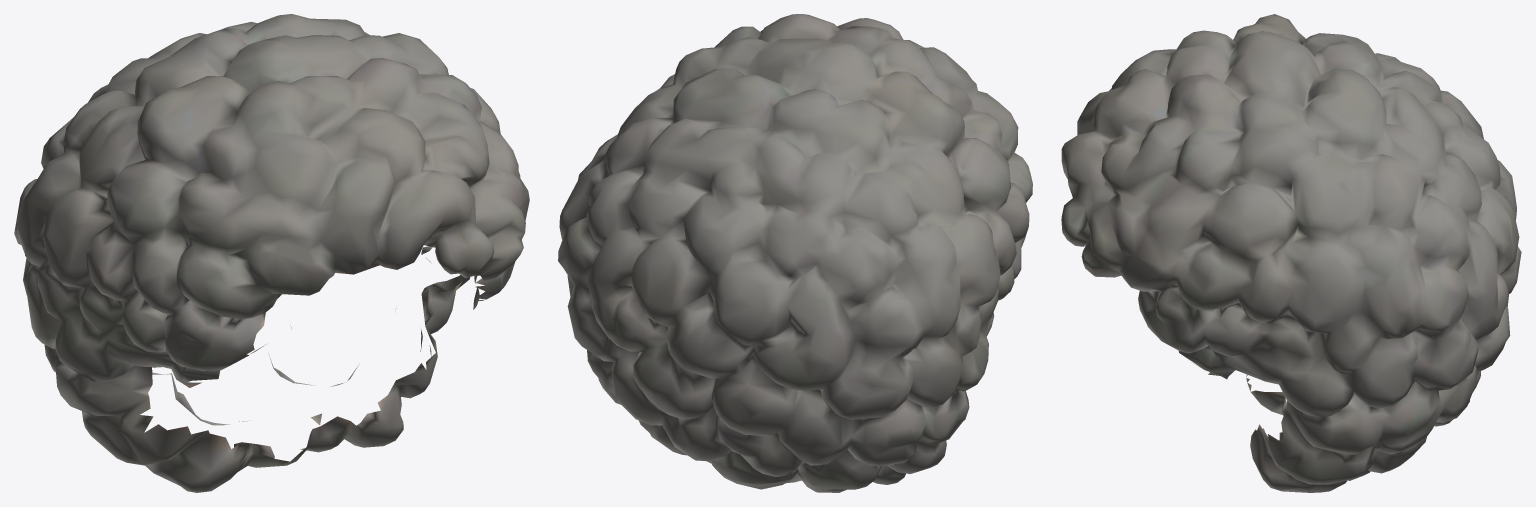
File: hair-f-curls.glb
3 renders of one model, left to right at view 1: azimuth 30°, elevation 25°; view 2: azimuth 150°, elevation 25°; view 3: azimuth 270°, elevation 25°, orthographic. The views are drawn at different scales.
Visible parts, largest first — view 1: hair-f-curls; view 2: hair-f-curls; view 3: hair-f-curls.
Part boxes in pixels (box(x1,y1,x2,y2)): hair-f-curls: box(14, 14, 529, 492); hair-f-curls: box(558, 14, 1032, 492); hair-f-curls: box(1061, 14, 1521, 492).
Size of the model in its own units: 1.26 by 1.26 by 1.26.
1 material, 1 textured.
